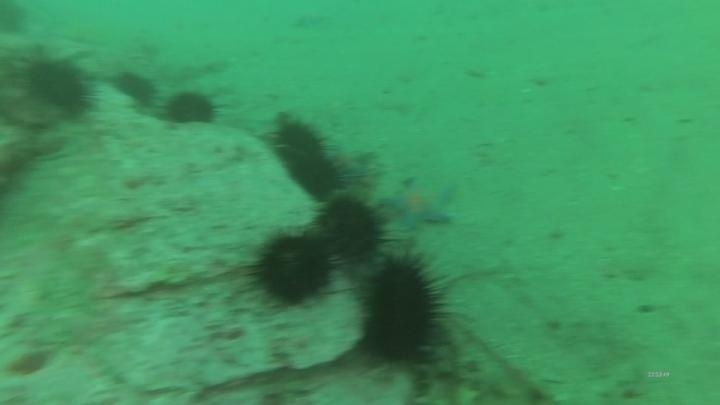echinus: (356, 255, 449, 368), (247, 230, 339, 310), (316, 193, 389, 265), (21, 54, 97, 121), (259, 116, 331, 166), (287, 152, 346, 201), (161, 88, 220, 129), (112, 69, 160, 109)
starfish: (380, 175, 460, 233), (324, 140, 378, 182)
